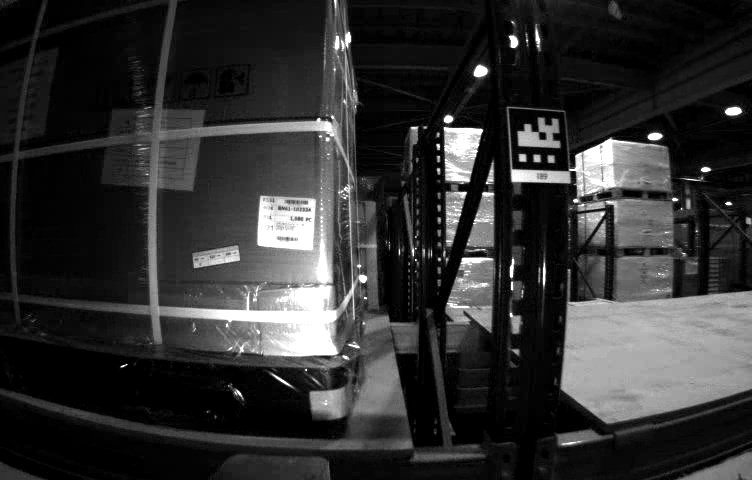True Barcode: (259, 193, 315, 252)
